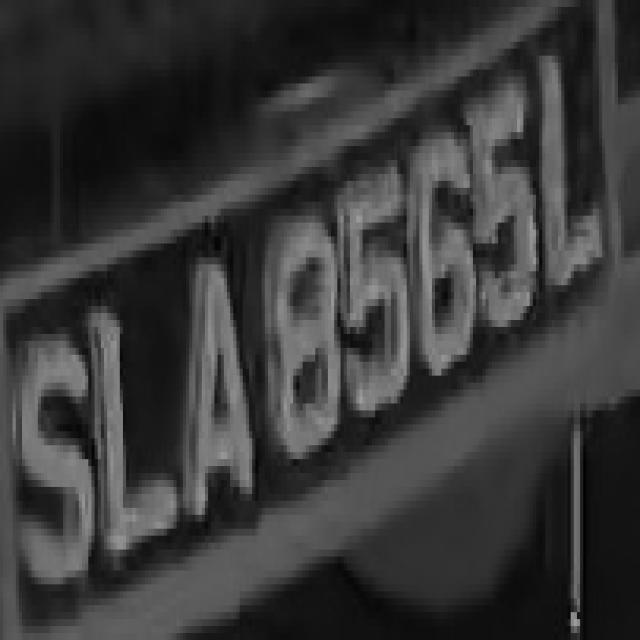5: (460, 83, 546, 355), (334, 160, 413, 424)
6: (398, 125, 482, 383)
8: (255, 195, 350, 466)
A: (176, 230, 262, 536)
L: (101, 272, 186, 578), (536, 21, 624, 313)
S: (12, 313, 98, 612)
